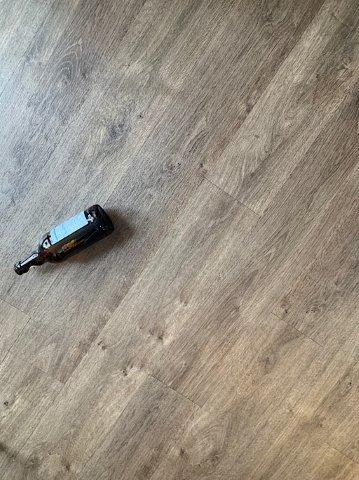botolkaca: (16, 205, 112, 275)
